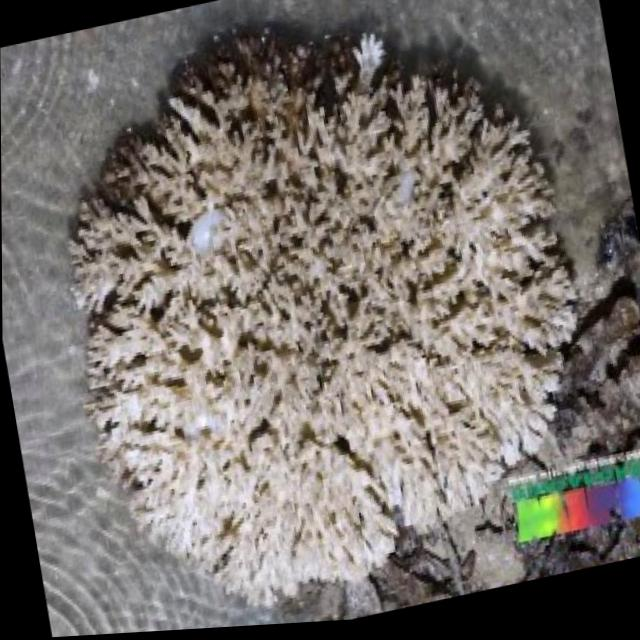Bleached Coral: (15, 0, 618, 639)
